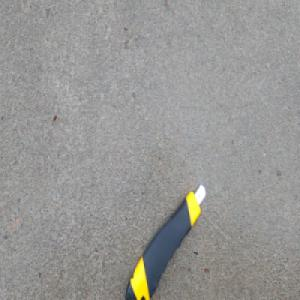Cutter: (122, 181, 206, 300)
